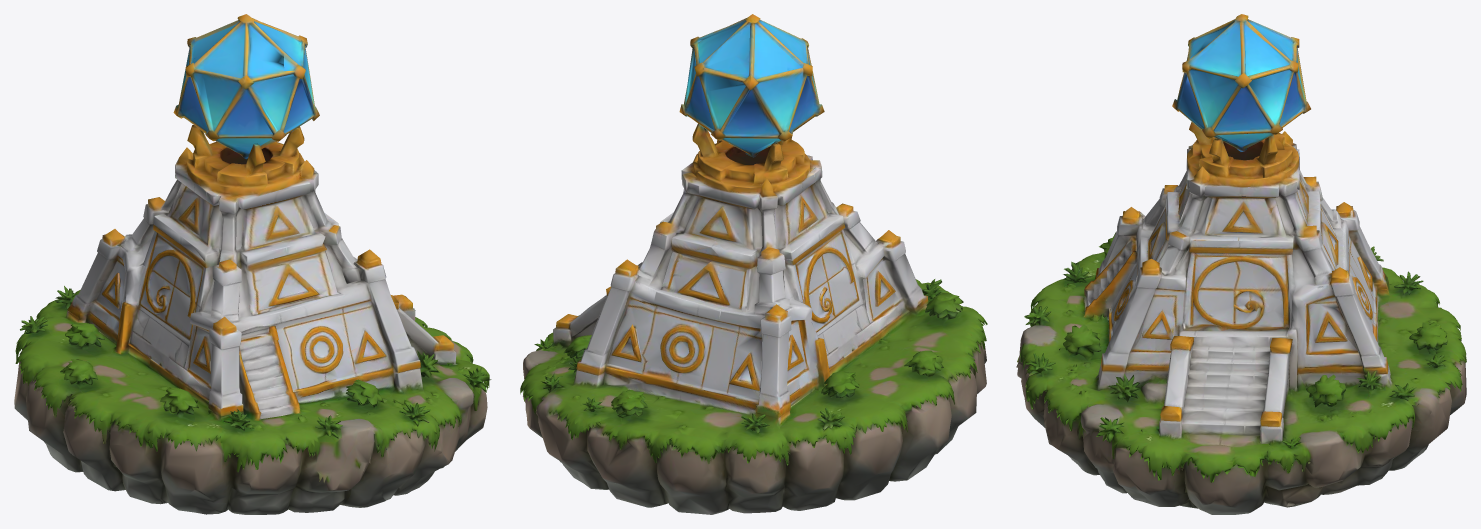
File: maths.glb
3 renders of one model, left to right at view 1: azimuth 30°, elevation 25°; view 2: azimuth 150°, elevation 25°; view 3: azimuth 270°, elevation 25°, orthographic. The views are drawn at different scales.
Parts seen in each view (by area): view 1: tripo_node_8deb8834-5fcf-48a0-9991-7ef279166b52; view 2: tripo_node_8deb8834-5fcf-48a0-9991-7ef279166b52; view 3: tripo_node_8deb8834-5fcf-48a0-9991-7ef279166b52.
Part boxes in pixels (bbox=[...]): tripo_node_8deb8834-5fcf-48a0-9991-7ef279166b52: bbox=[14, 14, 491, 514]; tripo_node_8deb8834-5fcf-48a0-9991-7ef279166b52: bbox=[520, 14, 987, 514]; tripo_node_8deb8834-5fcf-48a0-9991-7ef279166b52: bbox=[1016, 14, 1466, 514].
Bounding box in the file's own units: 0.9456 × 0.9789 × 0.9432.
1 material, 1 textured.
